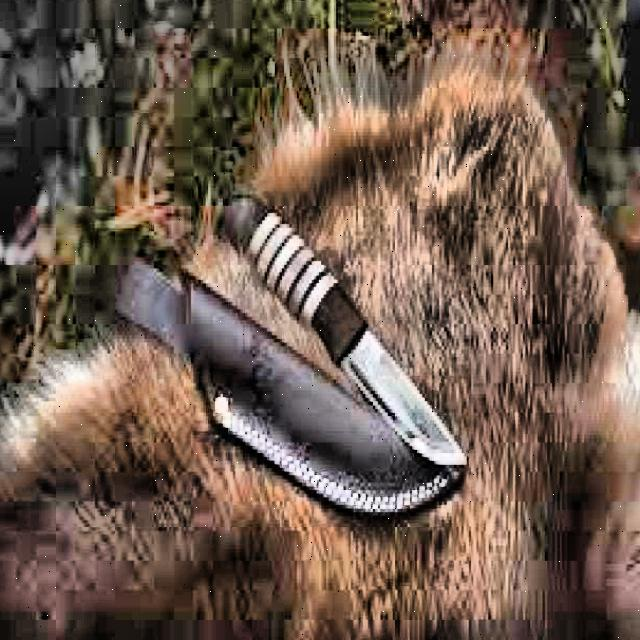knife: (225, 175, 472, 482)
